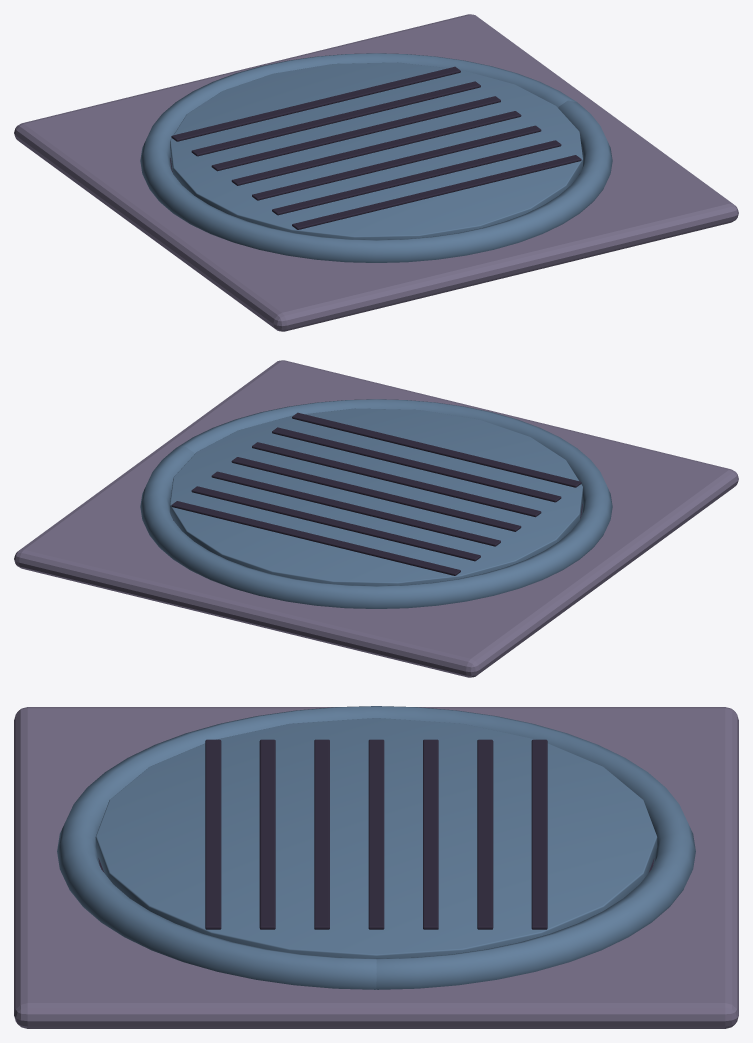
File: sewer.glb
The picture shows the model from 3 angles, top to bottom: view 1: azimuth 30°, elevation 25°; view 2: azimuth 150°, elevation 25°; view 3: azimuth 270°, elevation 25°; orthographic projection. The views are drawn at different scales.
Visible parts, largest first — view 1: Stone_surround, Grate_plate, Iron_ring, Grate_groove, Grate_groove.003, Grate_groove.005, Grate_groove.001, Grate_groove.002, Grate_groove.006, Grate_groove.004; view 2: Stone_surround, Grate_plate, Iron_ring, Grate_groove.001, Grate_groove.003, Grate_groove.006, Grate_groove, Grate_groove.004, Grate_groove.005, Grate_groove.002; view 3: Stone_surround, Grate_plate, Iron_ring, Grate_groove.003, Grate_groove, Grate_groove.006, Grate_groove.001, Grate_groove.005, Grate_groove.002, Grate_groove.004.
Boxes of the visible parts, bbox=[...] form: Stone_surround: bbox=[14, 14, 738, 331]; Grate_plate: bbox=[170, 62, 582, 239]; Iron_ring: bbox=[140, 53, 612, 262]; Grate_groove: bbox=[171, 66, 460, 141]; Grate_groove.003: bbox=[231, 111, 521, 185]; Grate_groove.005: bbox=[272, 140, 561, 215]; Grate_groove.001: bbox=[191, 81, 480, 156]; Grate_groove.002: bbox=[211, 96, 500, 171]; Grate_groove.006: bbox=[292, 155, 581, 229]; Grate_groove.004: bbox=[252, 125, 541, 200]; Stone_surround: bbox=[14, 360, 738, 677]; Grate_plate: bbox=[170, 408, 582, 585]; Iron_ring: bbox=[140, 399, 612, 608]; Grate_groove.001: bbox=[191, 486, 480, 561]; Grate_groove.003: bbox=[231, 457, 521, 531]; Grate_groove.006: bbox=[292, 412, 581, 487]; Grate_groove: bbox=[171, 501, 460, 575]; Grate_groove.004: bbox=[252, 442, 541, 517]; Grate_groove.005: bbox=[272, 427, 561, 502]; Grate_groove.002: bbox=[211, 471, 500, 546]; Stone_surround: bbox=[14, 707, 738, 1028]; Grate_plate: bbox=[95, 718, 657, 958]; Iron_ring: bbox=[57, 706, 695, 989]; Grate_groove.003: bbox=[368, 739, 384, 929]; Grate_groove: bbox=[531, 739, 547, 929]; Grate_groove.006: bbox=[205, 739, 221, 929]; Grate_groove.001: bbox=[477, 739, 493, 929]; Grate_groove.005: bbox=[259, 739, 275, 929]; Grate_groove.002: bbox=[423, 739, 438, 929]; Grate_groove.004: bbox=[314, 739, 329, 929].
Bounding box in the file's own units: 1.6 × 0.115 × 1.6.
